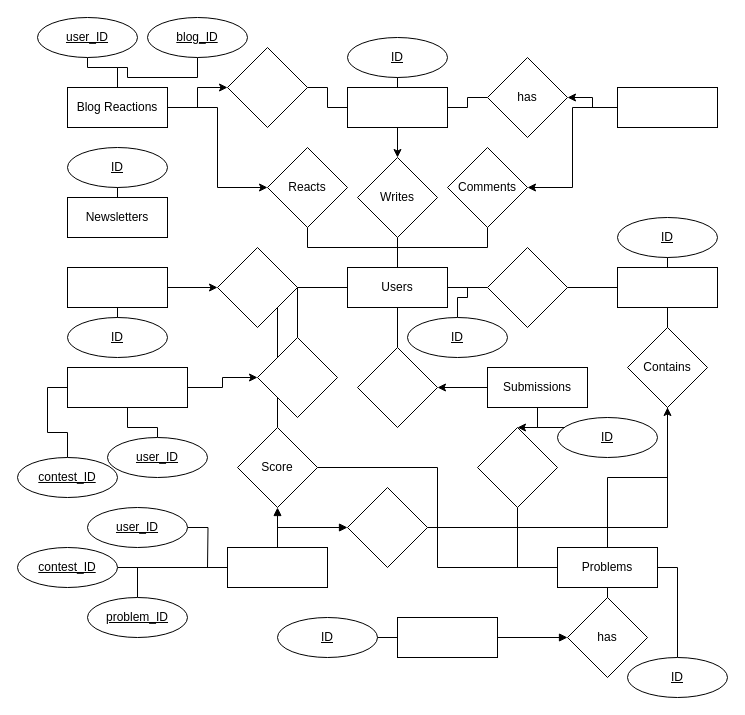
Image size: 745x715. Some labels were removed from this diagram. The shapes that lost their labels are listed below. From the top down, each one's centre as x and y in pixels, then its label:
At (267,87): "gets".
At (397,107): "Blogs".
At (667,107): "Blog Comments".
At (117,287): "Feedback".
At (257,287): "Gives".
At (527,287): "Creates".
At (667,287): "Contests".
At (127,387): "Content_registration".
At (297,377): "Registers".
At (397,387): "Submits".
At (517,467): "accepts".
At (387,527): "Results".
At (277,567): "User_scores".
At (447,637): "Test_cases".
